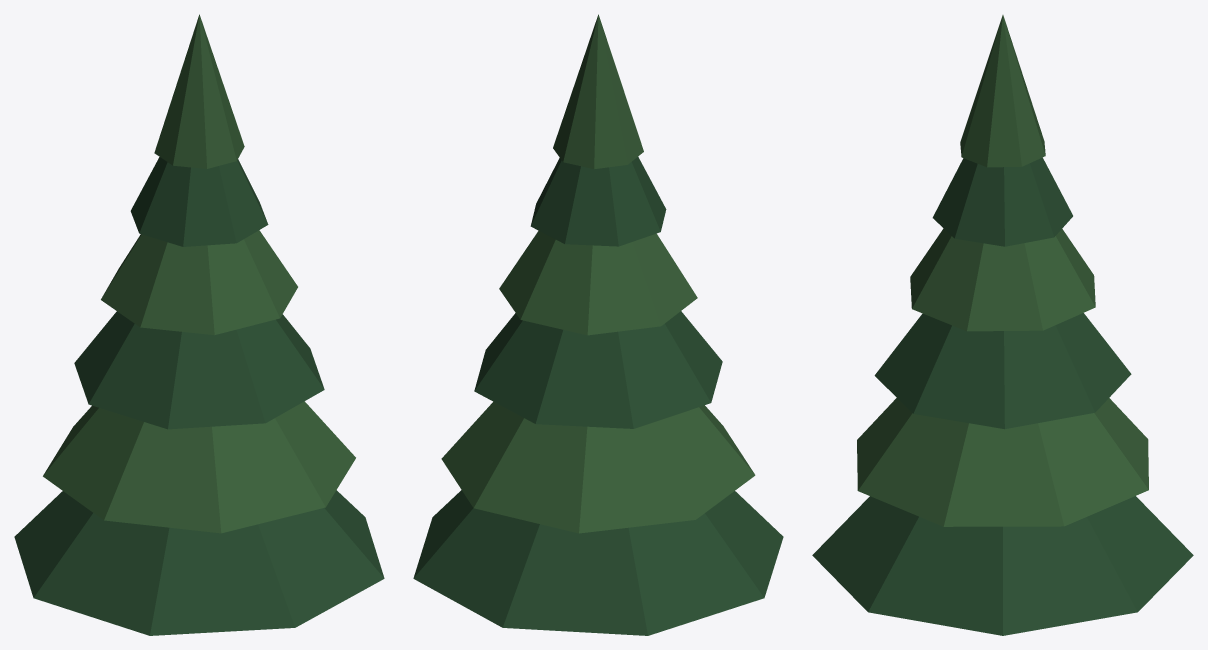
The model's file is ель.glb.
3 renders of one model, left to right at view 1: azimuth 30°, elevation 25°; view 2: azimuth 150°, elevation 25°; view 3: azimuth 270°, elevation 25°, orthographic.
Parts seen in each view (by area): view 1: ель; view 2: ель; view 3: ель.
Boxes of the visible parts, left/top/right/bottom form: ель: left=14, top=14, right=384, bottom=635; ель: left=413, top=14, right=783, bottom=635; ель: left=812, top=15, right=1193, bottom=635.
Bounding box in the file's own units: 4.6 × 8 × 4.6.
